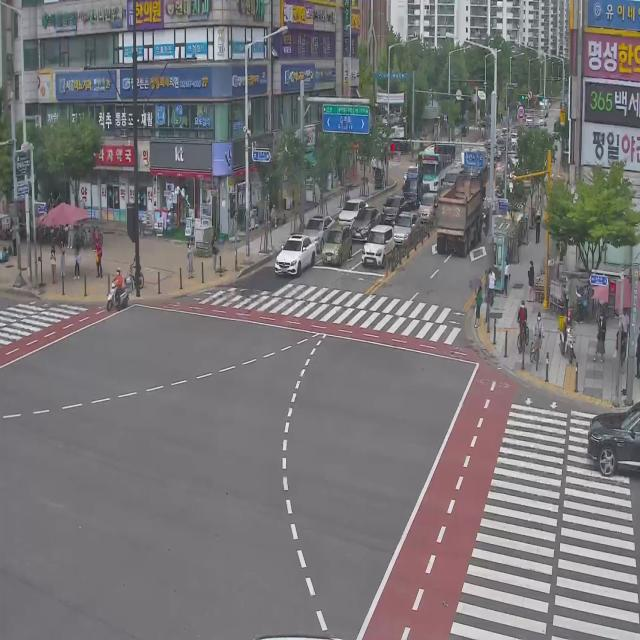Bus: (420, 136, 455, 195)
Car: (587, 401, 640, 476), (274, 233, 316, 277), (361, 223, 394, 270), (322, 222, 353, 267), (302, 207, 334, 250), (418, 193, 442, 234), (351, 205, 379, 240), (378, 190, 408, 222), (392, 210, 416, 247), (341, 197, 367, 229)
Motorcycle: (105, 268, 130, 315), (557, 308, 576, 367)
Truck: (439, 164, 483, 262), (403, 174, 424, 212)
